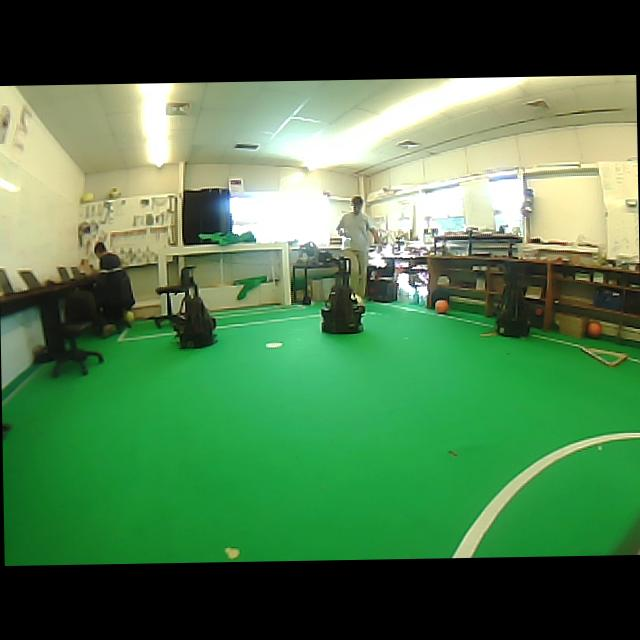ball: (587, 320, 602, 337), (435, 299, 448, 313), (107, 186, 122, 198), (125, 309, 134, 326), (80, 193, 94, 202)
goal: (282, 243, 291, 304)
robot: (171, 266, 215, 347), (320, 270, 364, 333), (496, 282, 529, 336)
